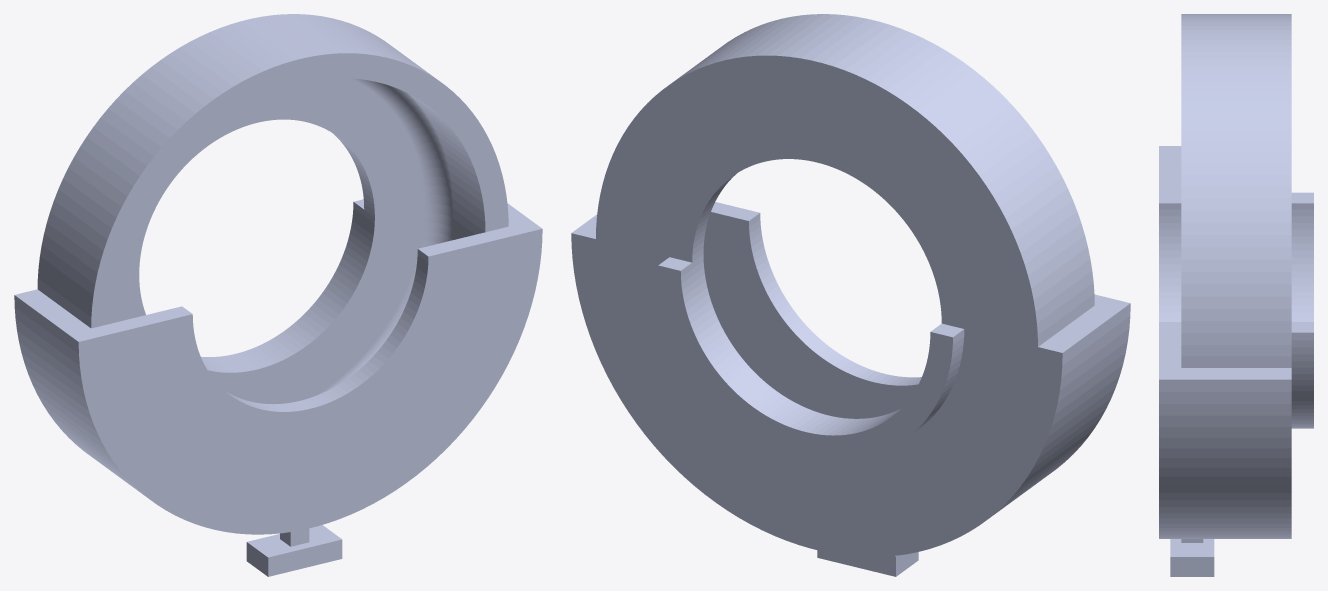
File: capsula3a.obj
The picture shows the model from 3 angles, left to right: view 1: azimuth 30°, elevation 25°; view 2: azimuth 150°, elevation 25°; view 3: azimuth 270°, elevation 25°; orthographic projection. The views are drawn at different scales.
Visible parts, largest first — view 1: obj1; view 2: obj1; view 3: obj1.
Part boxes in pixels (x1,y1,x2,y2): obj1: (14,14,542,576); obj1: (571,14,1130,576); obj1: (1159,14,1313,576).
Size of the model in its own units: 50 by 51.99 by 14.
